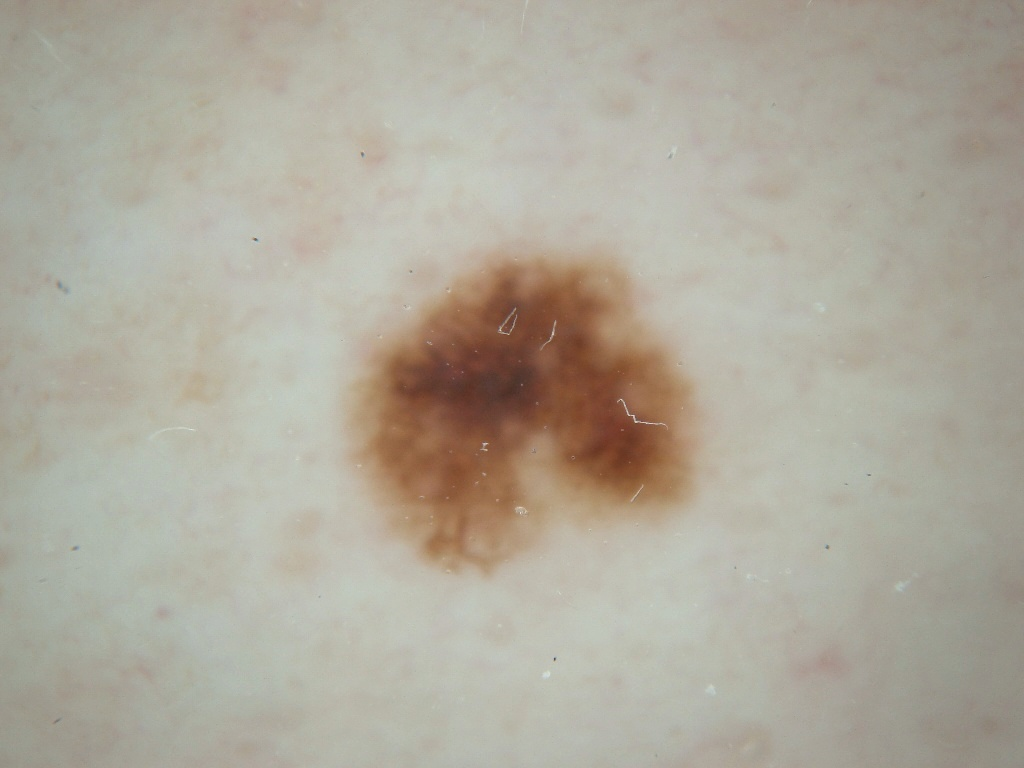Detected Lesion: (338, 242, 712, 586)
